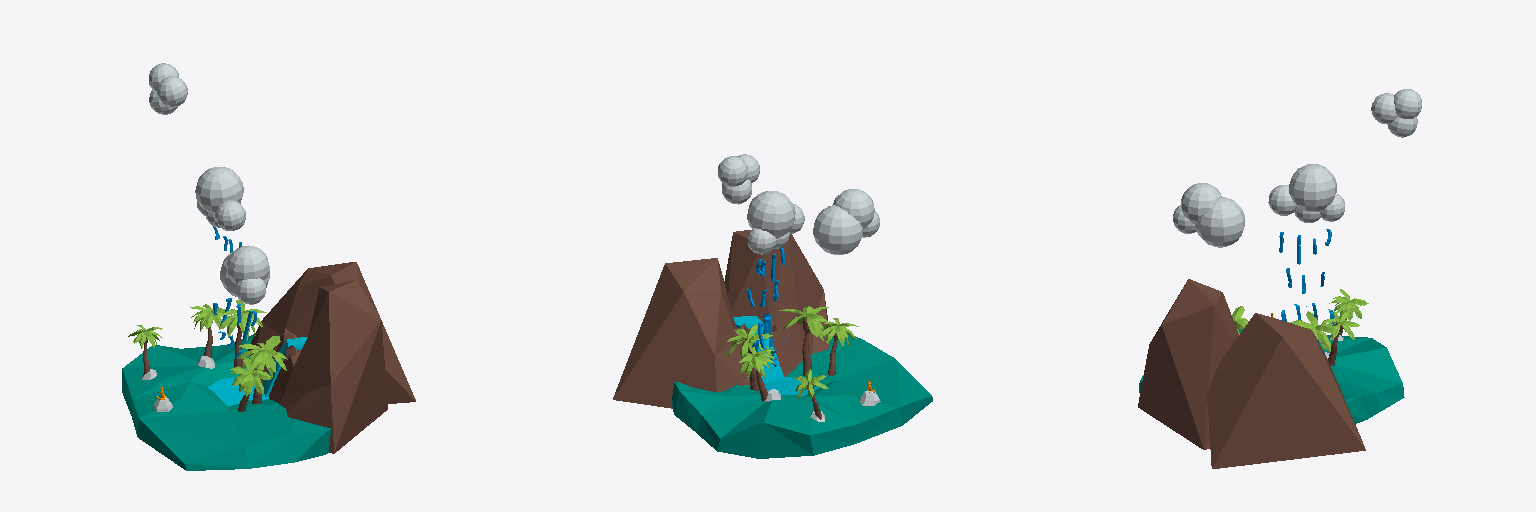
3 views of the same model, side by side, from view 1: azimuth 30°, elevation 25°; view 2: azimuth 150°, elevation 25°; view 3: azimuth 270°, elevation 25° (orthographic).
Parts seen in each view (by area): view 1: group[number redacted], group[number redacted], group[number redacted], group[number redacted]; view 2: group[number redacted], group[number redacted], group[number redacted], group[number redacted]; view 3: group[number redacted], group[number redacted], group[number redacted], group[number redacted].
Part boxes in pixels (left/top/right/bottom): group[number redacted]: left=122, top=262, right=415, bottom=470; group[number redacted]: left=195, top=167, right=256, bottom=358; group[number redacted]: left=220, top=245, right=269, bottom=304; group[number redacted]: left=149, top=63, right=187, bottom=114; group[number redacted]: left=613, top=230, right=932, bottom=458; group[number redacted]: left=746, top=191, right=804, bottom=367; group[number redacted]: left=813, top=189, right=879, bottom=254; group[number redacted]: left=718, top=154, right=759, bottom=204; group[number redacted]: left=1138, top=279, right=1404, bottom=468; group[number redacted]: left=1268, top=164, right=1344, bottom=342; group[number redacted]: left=1173, top=183, right=1244, bottom=247; group[number redacted]: left=1371, top=89, right=1421, bottom=137.
Size of the model in its own units: 3.26 by 3.74 by 3.17.